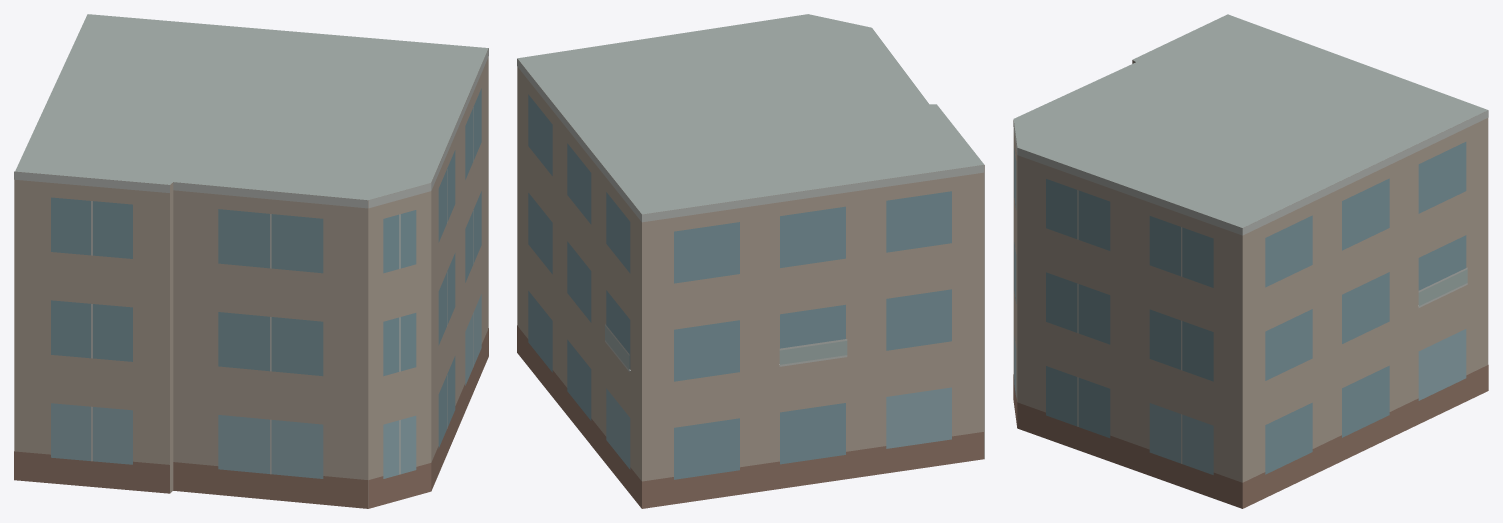
The model's file is survey-upis-32704155.glb.
3 renders of one model, left to right at view 1: azimuth 30°, elevation 25°; view 2: azimuth 150°, elevation 25°; view 3: azimuth 270°, elevation 25°, orthographic. The views are drawn at different scales.
Parts seen in each view (by area): view 1: survey-upis-32704155.tmp; view 2: survey-upis-32704155.tmp; view 3: survey-upis-32704155.tmp.
Boxes of the visible parts, x1=… form: survey-upis-32704155.tmp: x1=14, y1=14, x2=488, y2=508; survey-upis-32704155.tmp: x1=517, y1=14, x2=984, y2=508; survey-upis-32704155.tmp: x1=1013, y1=14, x2=1488, y2=508.
Bounding box in the file's own units: 14.97 × 9.15 × 14.04.
